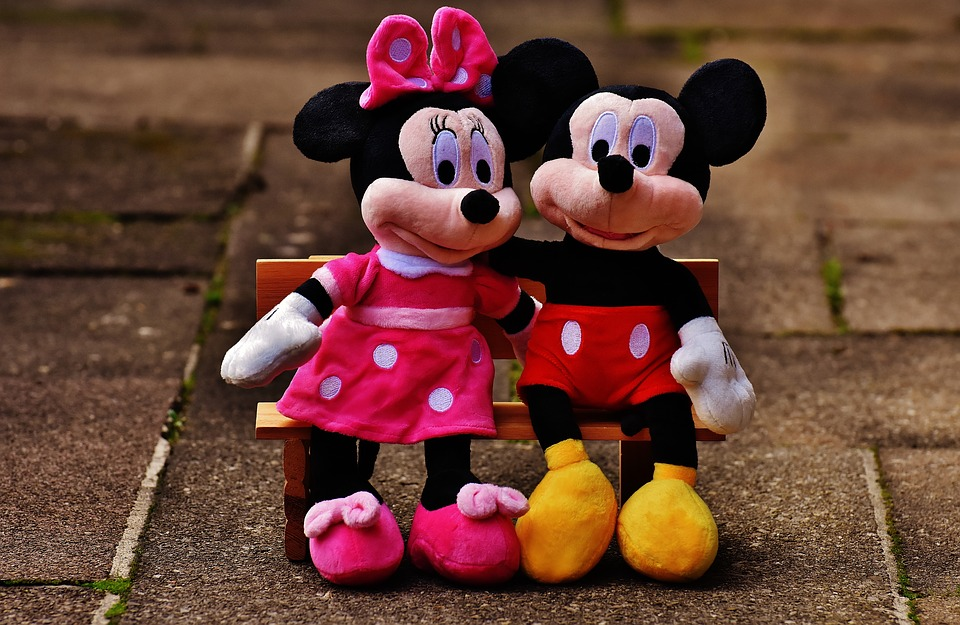Mickey: (490, 21, 772, 252)
